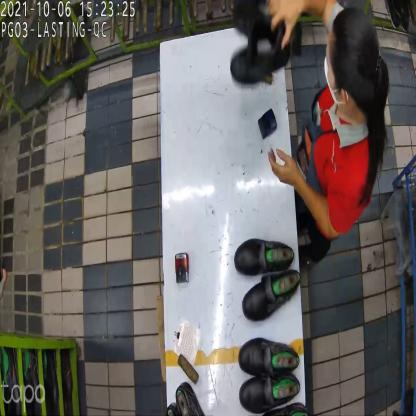shoes: (237, 237, 301, 322), (237, 339, 305, 411)
stamp: (173, 251, 192, 285), (259, 108, 277, 139)
